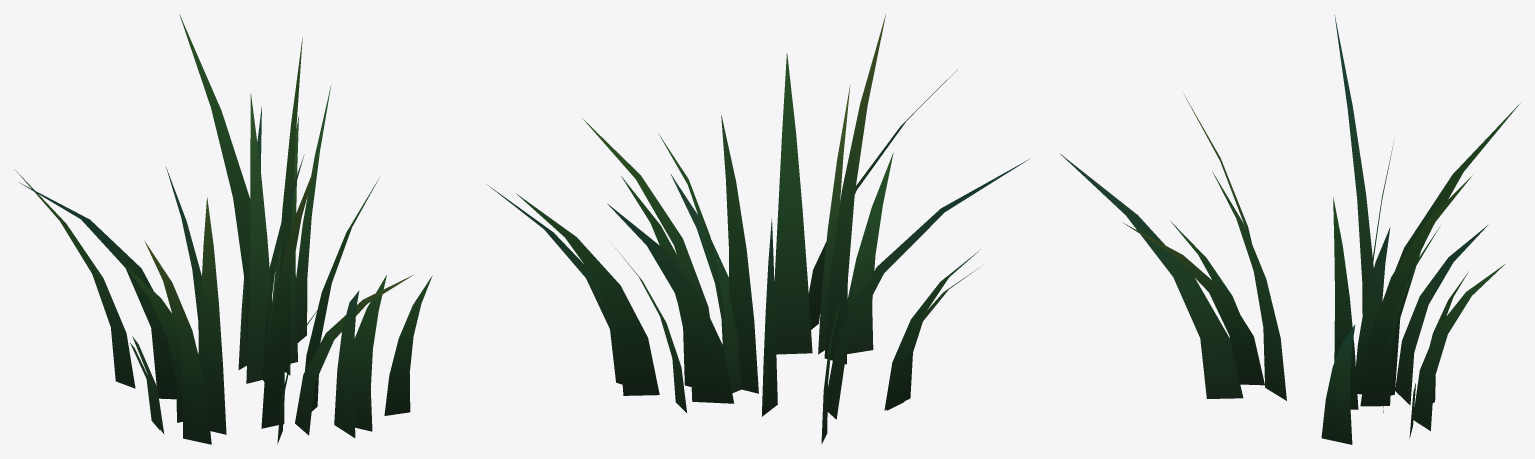
Rendered from cimen_kucuk.glb.
The picture shows the model from 3 angles, left to right: view 1: azimuth 30°, elevation 25°; view 2: azimuth 150°, elevation 25°; view 3: azimuth 270°, elevation 25°; orthographic projection. The views are drawn at different scales.
Visible parts, largest first — view 1: cimen_kucuk_LOD0; view 2: cimen_kucuk_LOD0; view 3: cimen_kucuk_LOD0.
Part boxes in pixels (x1,y1,x2,y2): cimen_kucuk_LOD0: [15, 14, 432, 444]; cimen_kucuk_LOD0: [486, 14, 1030, 443]; cimen_kucuk_LOD0: [1060, 15, 1520, 444].
Size of what is drawn, in the model's own units: 0.5027 by 0.3248 by 0.4665.
